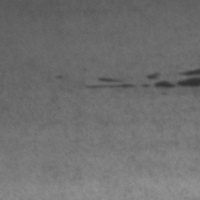inclusion: (77, 64, 199, 94)
